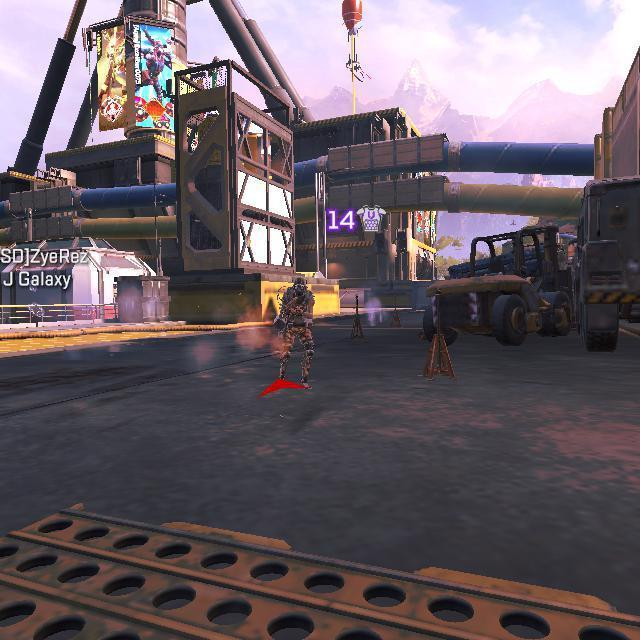avatar: (275, 276, 317, 387)
